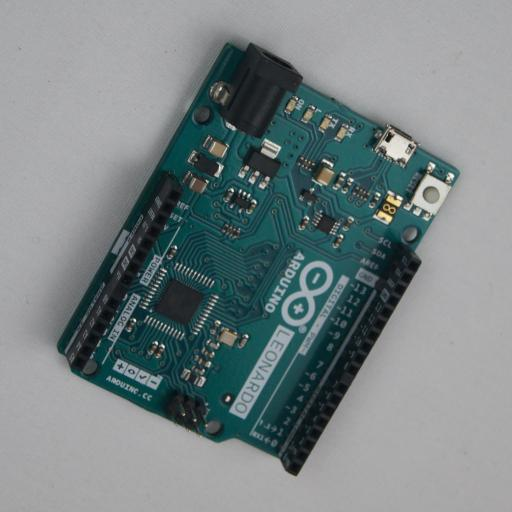ARDUINO_NANO_ATMEGA328P: (55, 39, 460, 476)
